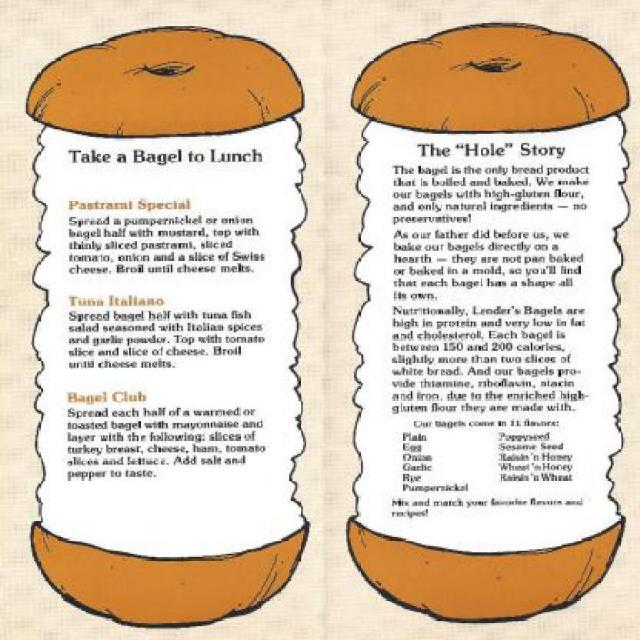Sandwich: (342, 21, 632, 624), (25, 24, 312, 632)
